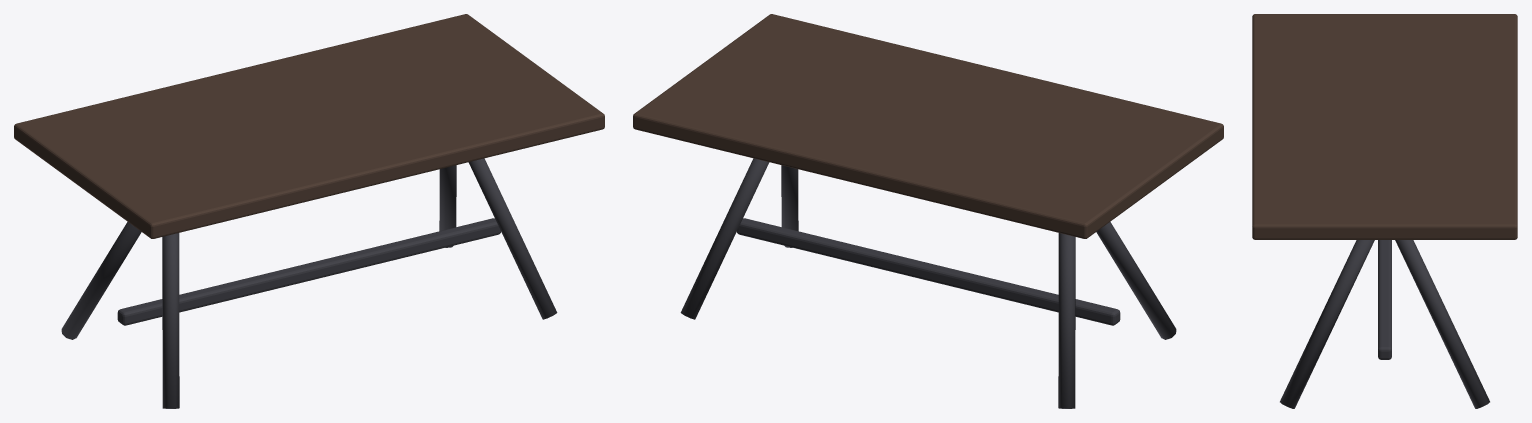
The model's file is table_iron_trestle.glb.
3 views of the same model, side by side, from view 1: azimuth 30°, elevation 25°; view 2: azimuth 150°, elevation 25°; view 3: azimuth 270°, elevation 25° (orthographic). The views are drawn at different scales.
Visible parts, largest first — view 1: GD_table_iron_trestle__m0, GD_table_iron_trestle__m1; view 2: GD_table_iron_trestle__m0, GD_table_iron_trestle__m1; view 3: GD_table_iron_trestle__m0, GD_table_iron_trestle__m1.
Boxes of the visible parts, x1,y1,x2,y2 form: GD_table_iron_trestle__m0: (14,14,604,238); GD_table_iron_trestle__m1: (61,158,557,408); GD_table_iron_trestle__m0: (633,14,1223,238); GD_table_iron_trestle__m1: (680,158,1176,408); GD_table_iron_trestle__m0: (1252,14,1517,239); GD_table_iron_trestle__m1: (1280,240,1489,408).
Bounding box in the file's own units: 1.8 × 0.7941 × 0.95.
